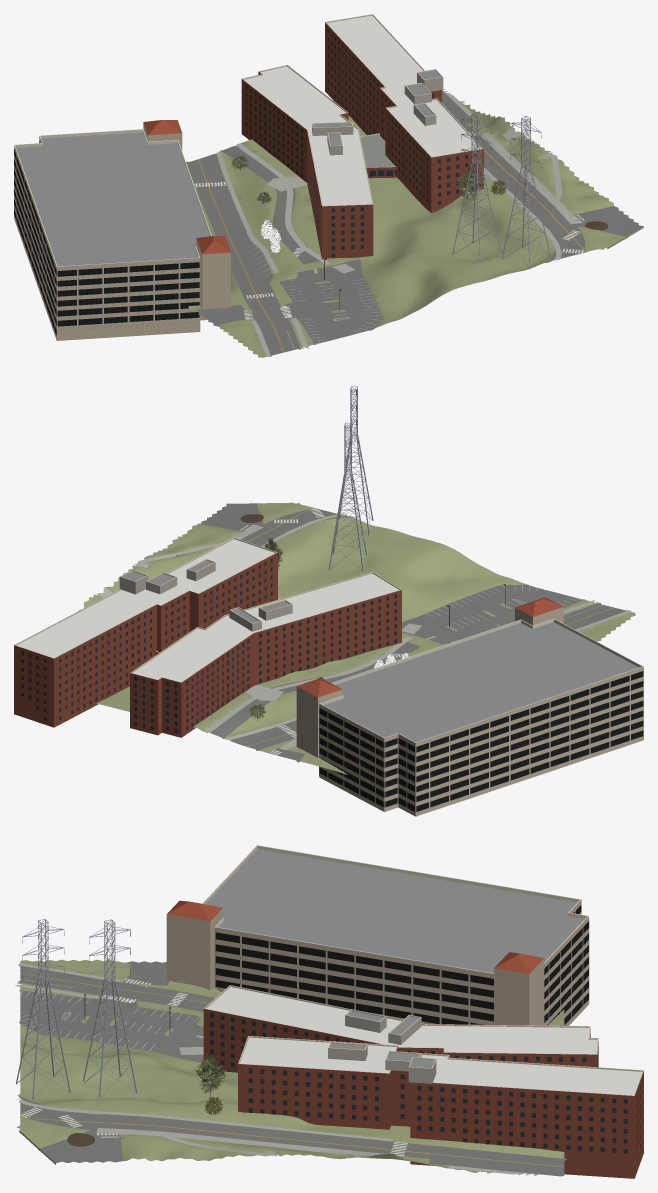
3 views of the same model, one above another, from view 1: azimuth 30°, elevation 25°; view 2: azimuth 150°, elevation 25°; view 3: azimuth 270°, elevation 25° (orthographic). The views are drawn at different scales.
Parts seen in each view (by area): view 1: SW_ground_northeast_asphalt_0_3_UNVERIFIED, SW_NE_bldg_CarParc_Diem_deck_UNVERIFIED, SW_NE_bldg_Dinallo_east_wing_UNVERIFIED, SW_ground_northeast_asphalt_0_3, SW_ground_northeast_concrete_0_3, SW_NE_power_tower_east_UNVERIFIED, SW_NE_bldg_Dinallo_east_roof_box_1_UNVERIFIED, SW_NE_bldg_CarParc_Diem_stair_tower_SE_UNVERIFIED, SW_NE_bldg_Dinallo_link_UNVERIFIED, SW_Ne_trees_Tree_065_UNVERIFIEDspecies; view 2: SW_NE_bldg_CarParc_Diem_deck_UNVERIFIED, SW_NE_bldg_Dinallo_east_wing_UNVERIFIED, SW_ground_northeast_asphalt_0_3_UNVERIFIED, SW_NE_bldg_Dinallo_east_roof_box_1_UNVERIFIED, SW_ground_northeast_concrete_0_3, SW_ground_northeast_asphalt_0_3, SW_NE_power_tower_east_UNVERIFIED, SW_NE_bldg_CarParc_Diem_stair_tower_SE_UNVERIFIED; view 3: SW_NE_bldg_CarParc_Diem_deck_UNVERIFIED, SW_NE_bldg_Dinallo_east_wing_UNVERIFIED, SW_ground_northeast_asphalt_0_3_UNVERIFIED, SW_ground_northeast_asphalt_0_3, SW_NE_power_tower_east_UNVERIFIED, SW_NE_bldg_Dinallo_east_roof_box_1_UNVERIFIED, SW_ground_northeast_concrete_0_3, SW_NE_bldg_CarParc_Diem_stair_tower_SE_UNVERIFIED, SW_Ne_trees_Tree_065_UNVERIFIEDspecies.
Part boxes in pixels (box(x1,y1,x2,y2)): SW_ground_northeast_asphalt_0_3_UNVERIFIED: box(186, 90, 643, 357); SW_NE_bldg_CarParc_Diem_deck_UNVERIFIED: box(14, 70, 440, 340); SW_NE_bldg_Dinallo_east_wing_UNVERIFIED: box(241, 15, 483, 259); SW_ground_northeast_asphalt_0_3: box(186, 123, 571, 315); SW_ground_northeast_concrete_0_3: box(194, 89, 579, 356); SW_NE_power_tower_east_UNVERIFIED: box(452, 112, 550, 267); SW_NE_bldg_Dinallo_east_roof_box_1_UNVERIFIED: box(242, 14, 483, 206); SW_NE_bldg_CarParc_Diem_stair_tower_SE_UNVERIFIED: box(143, 120, 230, 254); SW_NE_bldg_Dinallo_link_UNVERIFIED: box(360, 134, 395, 167); SW_Ne_trees_Tree_065_UNVERIFIEDspecies: box(455, 167, 482, 209); SW_NE_bldg_CarParc_Diem_deck_UNVERIFIED: box(122, 560, 643, 816); SW_NE_bldg_Dinallo_east_wing_UNVERIFIED: box(14, 539, 401, 737); SW_ground_northeast_asphalt_0_3_UNVERIFIED: box(79, 502, 635, 774); SW_NE_bldg_Dinallo_east_roof_box_1_UNVERIFIED: box(14, 537, 401, 682); SW_ground_northeast_concrete_0_3: box(98, 514, 631, 749); SW_ground_northeast_asphalt_0_3: box(210, 526, 420, 750); SW_NE_power_tower_east_UNVERIFIED: box(328, 386, 373, 570); SW_NE_bldg_CarParc_Diem_stair_tower_SE_UNVERIFIED: box(297, 597, 562, 697); SW_NE_bldg_CarParc_Diem_deck_UNVERIFIED: box(166, 845, 589, 1068); SW_NE_bldg_Dinallo_east_wing_UNVERIFIED: box(203, 987, 643, 1178); SW_ground_northeast_asphalt_0_3_UNVERIFIED: box(16, 959, 566, 1176); SW_ground_northeast_asphalt_0_3: box(95, 984, 434, 1158); SW_NE_power_tower_east_UNVERIFIED: box(16, 919, 137, 1099); SW_NE_bldg_Dinallo_east_roof_box_1_UNVERIFIED: box(204, 985, 643, 1095); SW_ground_northeast_concrete_0_3: box(14, 963, 538, 1175); SW_NE_bldg_CarParc_Diem_stair_tower_SE_UNVERIFIED: box(167, 900, 543, 974); SW_Ne_trees_Tree_065_UNVERIFIEDspecies: box(195, 1052, 226, 1097).
Bounding box in the file's own units: 204 × 75.65 × 185.
Materials: 43 (18 with a texture image).
